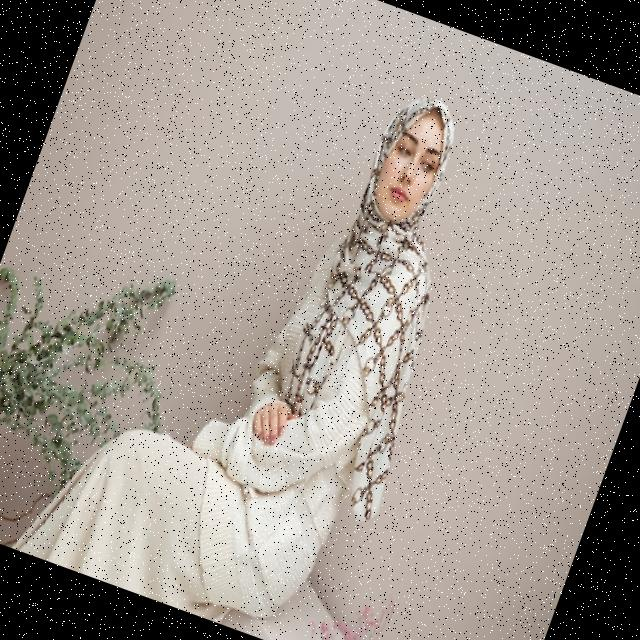Person: (7, 12, 515, 640)
